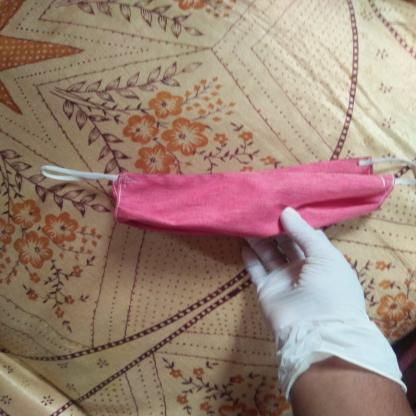gloved_hand: (226, 200, 411, 404)
